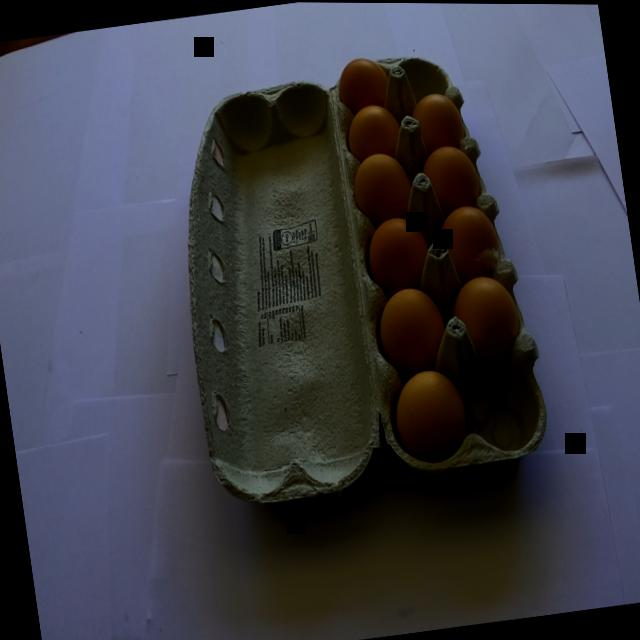Egg: (144, 23, 580, 536)
